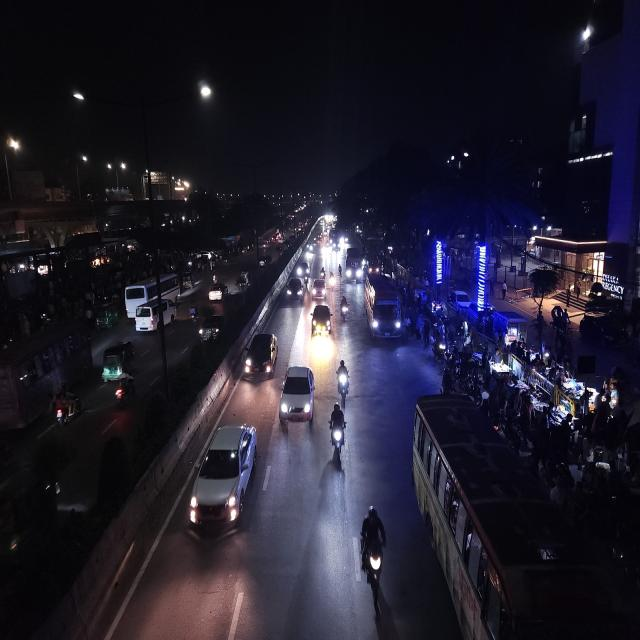bicycle: (336, 260, 344, 282)
bus: (410, 391, 608, 640), (361, 268, 405, 344), (125, 273, 187, 304), (344, 247, 364, 283)
car: (186, 419, 261, 544), (278, 360, 314, 434), (241, 325, 279, 382), (132, 297, 178, 339), (195, 309, 229, 349), (308, 302, 334, 338), (282, 274, 306, 305), (448, 286, 472, 313), (205, 283, 228, 304), (309, 276, 327, 302), (296, 259, 311, 278), (258, 253, 270, 269)
cng: (102, 340, 132, 383), (239, 269, 254, 288)
motorcycle: (360, 502, 390, 608), (326, 400, 349, 463), (332, 358, 356, 402), (114, 374, 135, 418), (338, 293, 351, 324), (329, 268, 336, 292)
